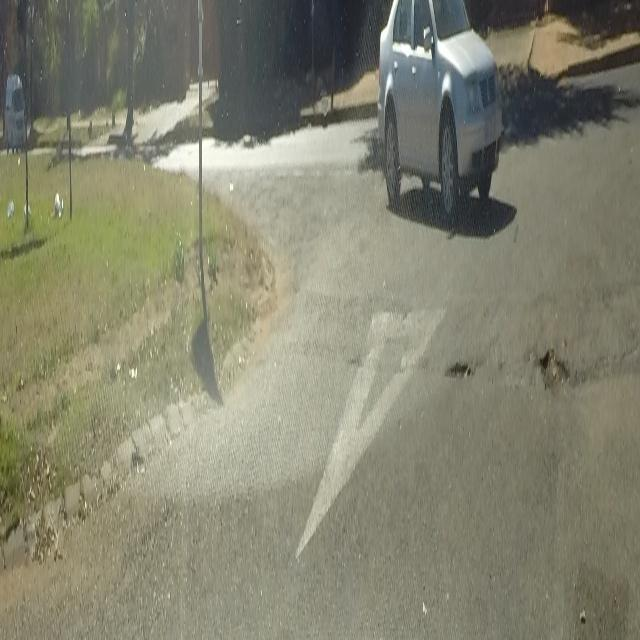pothole: (538, 340, 572, 401), (443, 358, 473, 386)
